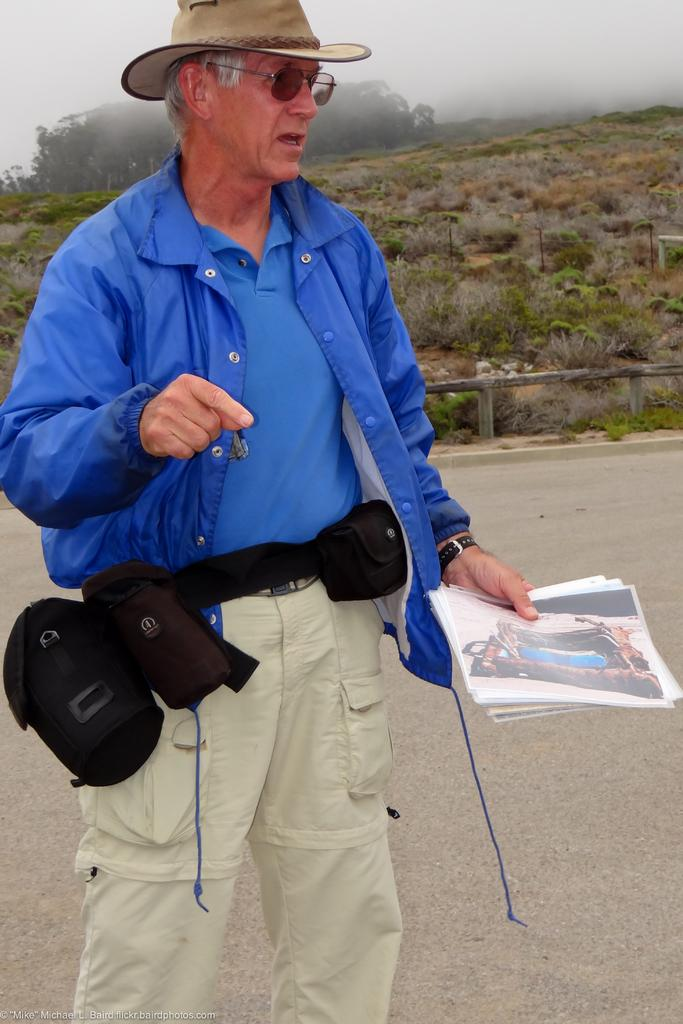Hat: (120, 0, 368, 104)
